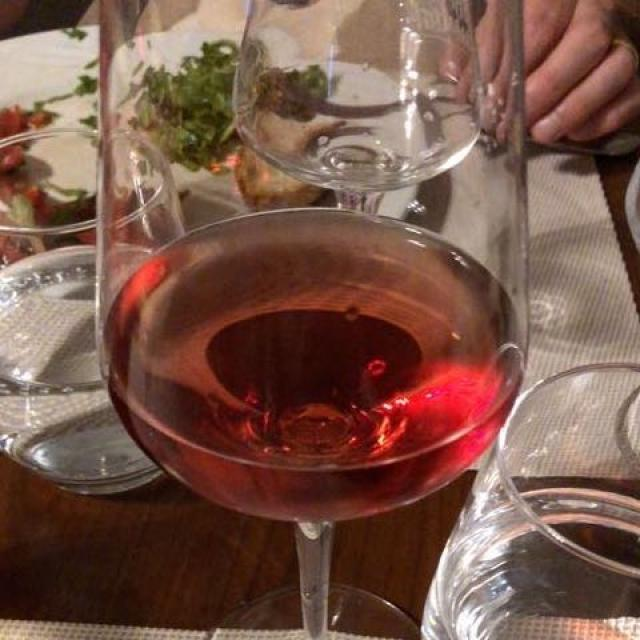wine: (103, 219, 522, 534)
